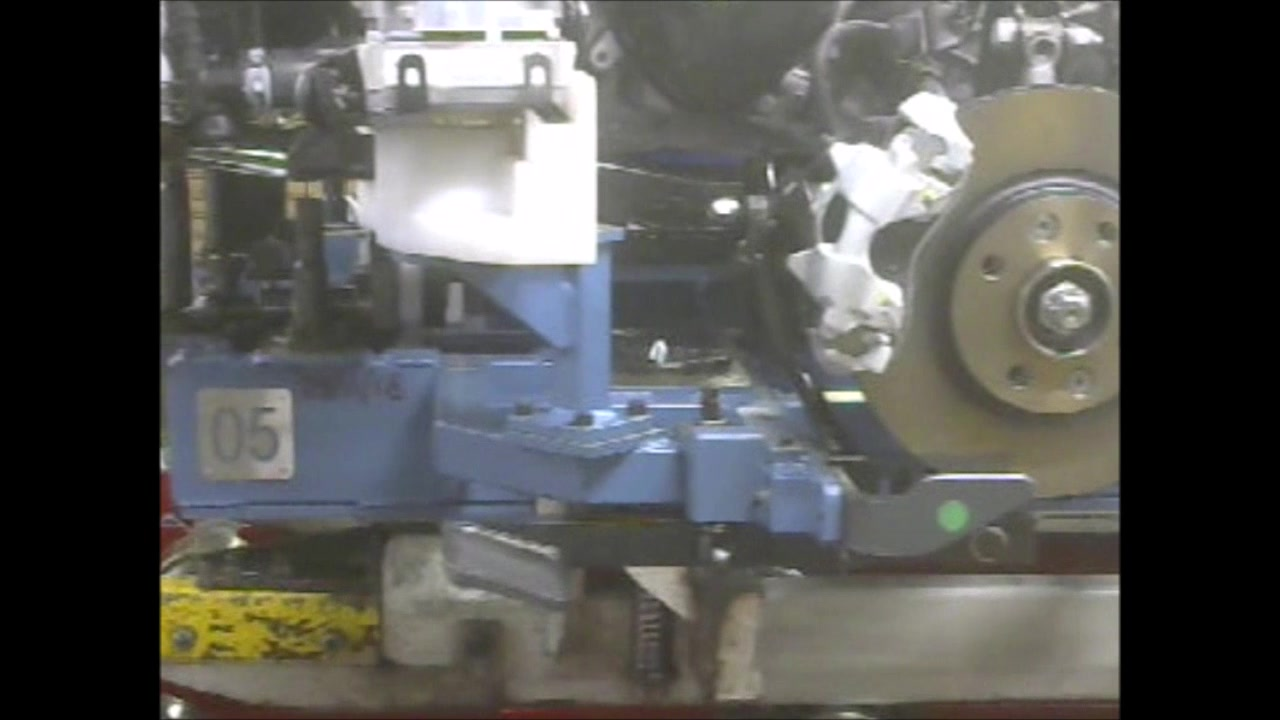DD2: (971, 75, 1118, 504)
P2: (783, 89, 978, 380)
